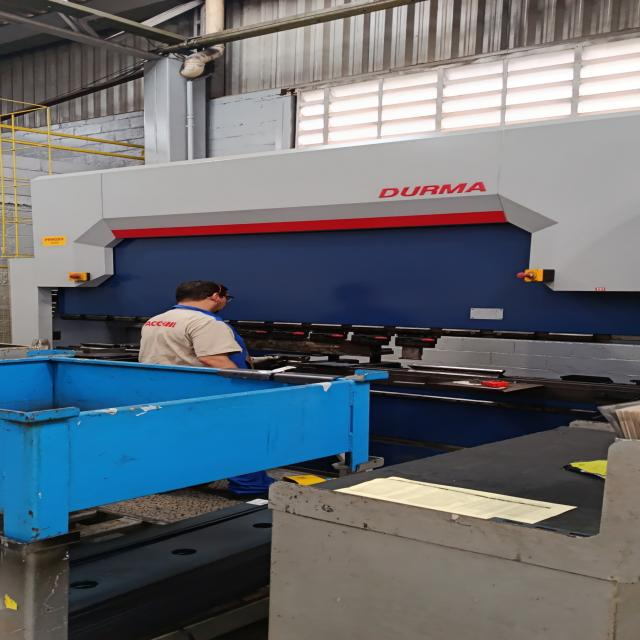oculos-epi: (224, 296, 234, 302)
